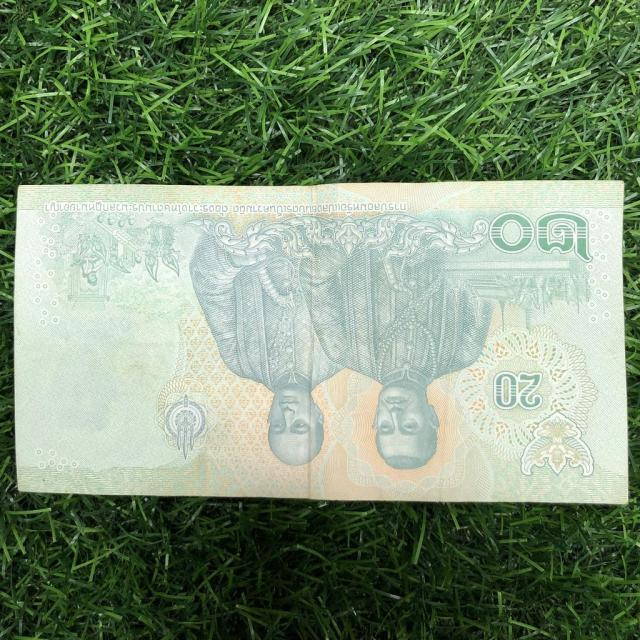THAI20: (15, 182, 627, 504)
